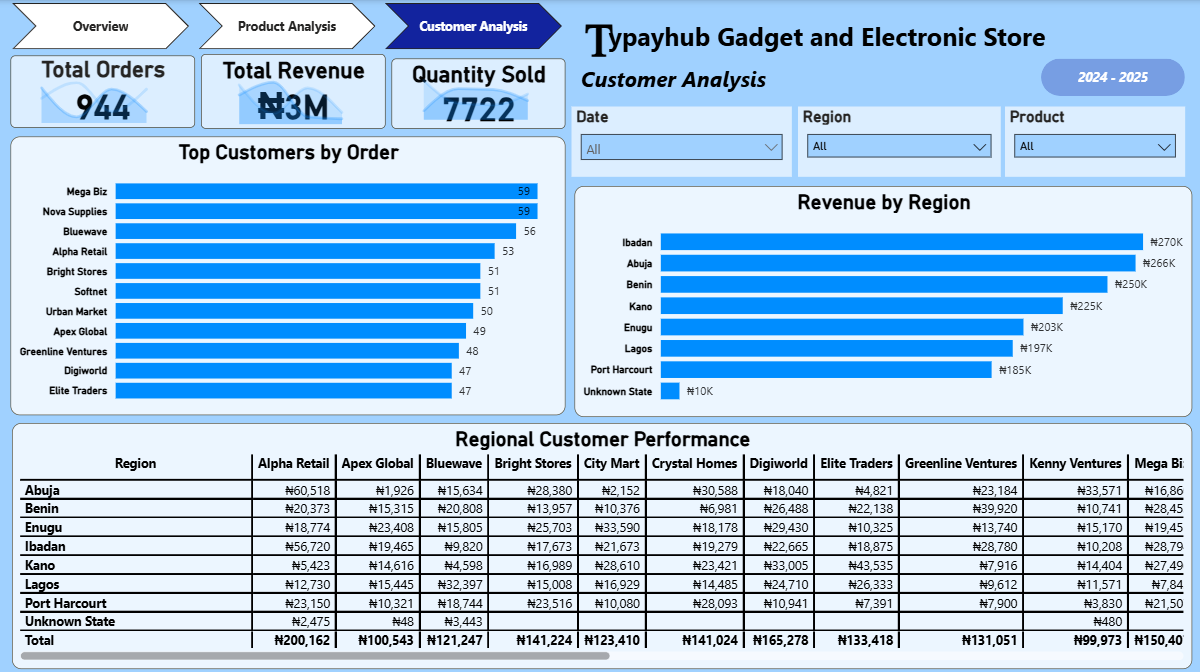

The page's visual inventory and layout, read from the dashboard file:
{"tool":"powerbi","page":{"name":"Customer Analysis","canvas":[1280,720],"ordinal":2},"visuals":[{"type":"shape","box":[613.1,2.8,660.9,106.9],"z":0},{"type":"shape","title":"Typayhub Gadget and Electronic Store","box":[631.4,3,501.2,69.7],"z":1000},{"type":"shape","box":[612.4,59.7,213.8,48.1],"z":2000},{"type":"shape","title":"Typayhub Gadget and Electronic Store","box":[604.2,0,71.2,80.3],"z":3000},{"type":"barChart","title":"Top Customers by Order","fields":{"Category":["Cleaned_Sales_Data.Customer Name"],"Y":["Calender.Total Orders"]},"box":[14.3,145,589.4,296.3],"z":4000},{"type":"barChart","title":"Revenue by Region","fields":{"Y":["Calender.Total Revenue"],"Category":["Cleaned_Sales_Data.Region"]},"box":[613.3,197.5,656.3,245.3],"z":5000},{"type":"pivotTable","title":"Regional Customer Performance","fields":{"Rows":["Cleaned_Sales_Data.Region"],"Values":["Calender.Total Revenue"],"Columns":["Cleaned_Sales_Data.Customer Name"]},"box":[15.9,449.2,1253.6,261.2],"z":6000},{"type":"pageNavigator","box":[15.9,3.2,584.6,49.4],"z":7000},{"type":"card","title":"Total Orders","fields":{"Values":["Calender.Total Orders"]},"box":[14.3,58.9,195.9,76.5],"z":8000},{"type":"card","title":"Quantity Sold","fields":{"Values":["Calender.Total Quantity Sold"]},"box":[418.9,62.1,184.8,74.9],"z":9000},{"type":"card","title":"Total Revenue","fields":{"Values":["Calender.Total Revenue"]},"box":[216.6,57.3,195.9,79.6],"z":10000},{"type":"lineChart","fields":{"Y":["Calender.Total Orders"],"Category":["Calender.Quarter"],"Series":["Calender.Year"]},"box":[27.1,73.3,151.3,62.1],"z":11000},{"type":"lineChart","fields":{"Category":["Calender.Quarter"],"Series":["Calender.Year"],"Y":["Calender.Total Revenue"]},"box":[237.3,68.5,148.1,68.5],"z":12000},{"type":"lineChart","fields":{"Category":["Calender.Quarter"],"Series":["Calender.Year"],"Y":["Calender.Total Quantity Sold"]},"box":[433.3,68.5,149.7,63.7],"z":13000},{"type":"slicer","title":"Product","fields":{"Values":["Cleaned_Sales_Data.Product"]},"box":[1070.4,113.1,191.2,74.9],"z":14000},{"type":"slicer","title":"Region","fields":{"Values":["Cleaned_Sales_Data.Region"]},"box":[850.6,113.1,215,74.9],"z":15000},{"type":"slicer","title":"Date","fields":{"Values":["Cleaned_Sales_Data.Order Date"]},"box":[610.1,113.1,234.2,74.9],"z":16000},{"type":"shape","box":[1108.7,62.1,152.9,39.8],"z":17000}]}

Visuals, with their boxes in screenshot pixels (x1, y1, x2, y2), scaled from the page's 1280x720 canvas onto the 1200x672 screenshot:
shape: [575, 3, 1194, 102]
"Typayhub Gadget and Electronic Store" shape: [592, 3, 1062, 68]
shape: [574, 56, 775, 101]
"Typayhub Gadget and Electronic Store" shape: [566, 0, 633, 75]
"Top Customers by Order" barChart: [13, 135, 566, 412]
"Revenue by Region" barChart: [575, 184, 1190, 413]
"Regional Customer Performance" pivotTable: [15, 419, 1190, 663]
pageNavigator: [15, 3, 563, 49]
"Total Orders" card: [13, 55, 197, 126]
"Quantity Sold" card: [393, 58, 566, 128]
"Total Revenue" card: [203, 53, 387, 128]
lineChart - Calender.Total Orders x Calender.Quarter: [25, 68, 167, 126]
lineChart - Calender.Quarter x Calender.Year: [222, 64, 361, 128]
lineChart - Calender.Quarter x Calender.Year: [406, 64, 547, 123]
"Product" slicer: [1004, 106, 1183, 175]
"Region" slicer: [797, 106, 999, 175]
"Date" slicer: [572, 106, 792, 175]
shape: [1039, 58, 1183, 95]
